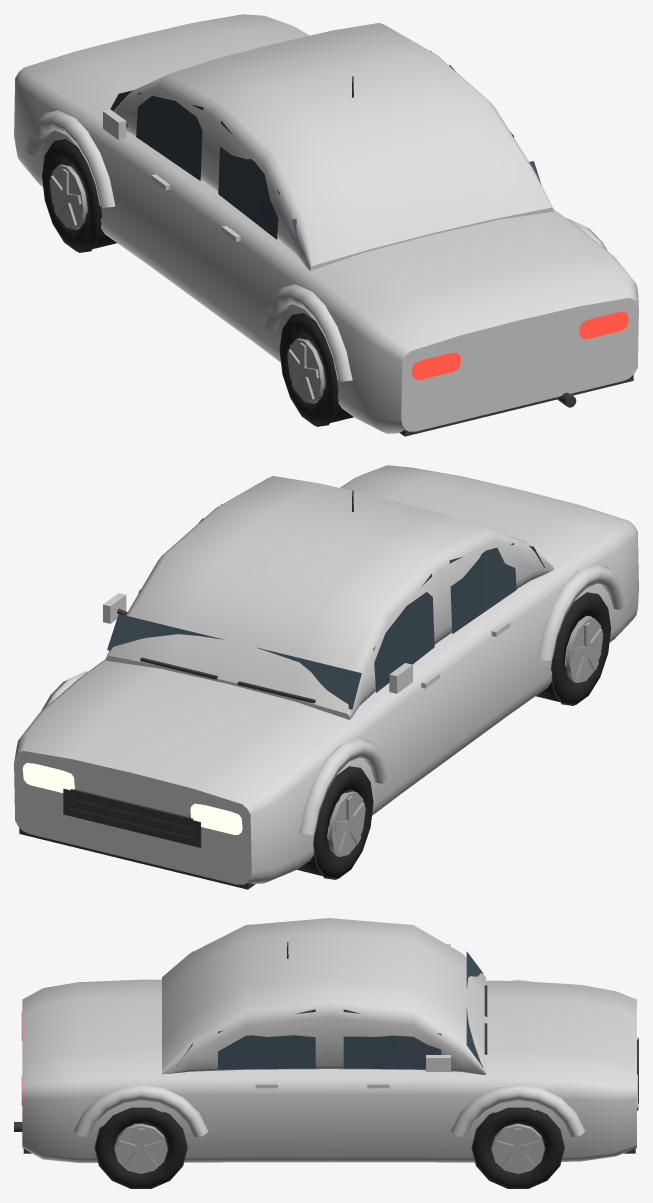
The model's file is dh-sedan-v2.glb.
3 views of the same model, one above another, from view 1: azimuth 30°, elevation 25°; view 2: azimuth 150°, elevation 25°; view 3: azimuth 270°, elevation 25° (orthographic). The views are drawn at different scales.
Parts seen in each view (by area): view 1: Body, Glass, WheelsTire, WheelsHub, Taillights, Trim; view 2: Body, Glass, WheelsTire, Trim, WheelsHub, Headlights; view 3: Body, WheelsTire, Glass, WheelsHub, Trim.
Boxes of the visible parts, box(x1,y1,x2,y2) form: Body: box(14, 14, 638, 433); Glass: box(110, 51, 541, 256); WheelsTire: box(42, 141, 353, 425); WheelsHub: box(49, 164, 324, 403); Taillights: box(412, 311, 628, 379); Trim: box(53, 76, 633, 436); Body: box(14, 465, 638, 884); Glass: box(107, 504, 544, 709); WheelsTire: box(297, 594, 610, 878); Trim: box(19, 490, 599, 889); WheelsHub: box(328, 617, 603, 856); Headlights: box(22, 762, 242, 834); Body: box(22, 918, 636, 1162); WheelsTire: box(95, 1107, 563, 1188); Glass: box(176, 951, 483, 1069); WheelsHub: box(114, 1123, 544, 1173); Trim: box(14, 942, 638, 1188).
Bounding box in the file's own units: 1.93 × 1.54 × 4.47.
